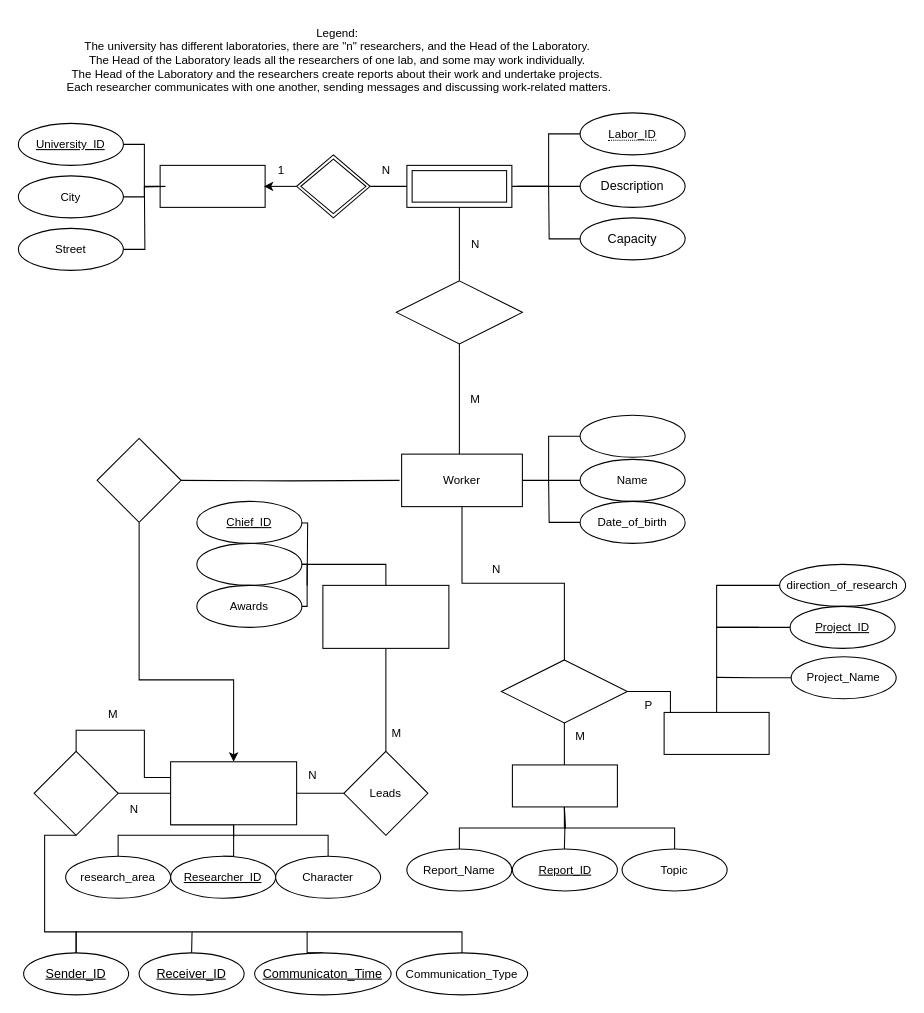
Image size: 924x1013. Some labels were removed from this diagram. Here are the shapes that lost their labels. From the top down, the box of each, then its label:
(159, 164, 265, 207): University
(296, 154, 370, 218): has
(406, 164, 512, 207): Laboratory
(395, 280, 522, 344): employs
(579, 414, 685, 457): Worker_ID
(96, 437, 181, 522): IS_A
(196, 542, 302, 585): Experience
(322, 584, 449, 648): Head_Researcher
(500, 659, 627, 723): makes
(663, 711, 769, 754): Project
(33, 750, 118, 835): Communicates
(170, 761, 297, 825): Researcher
(511, 764, 617, 807): Report
